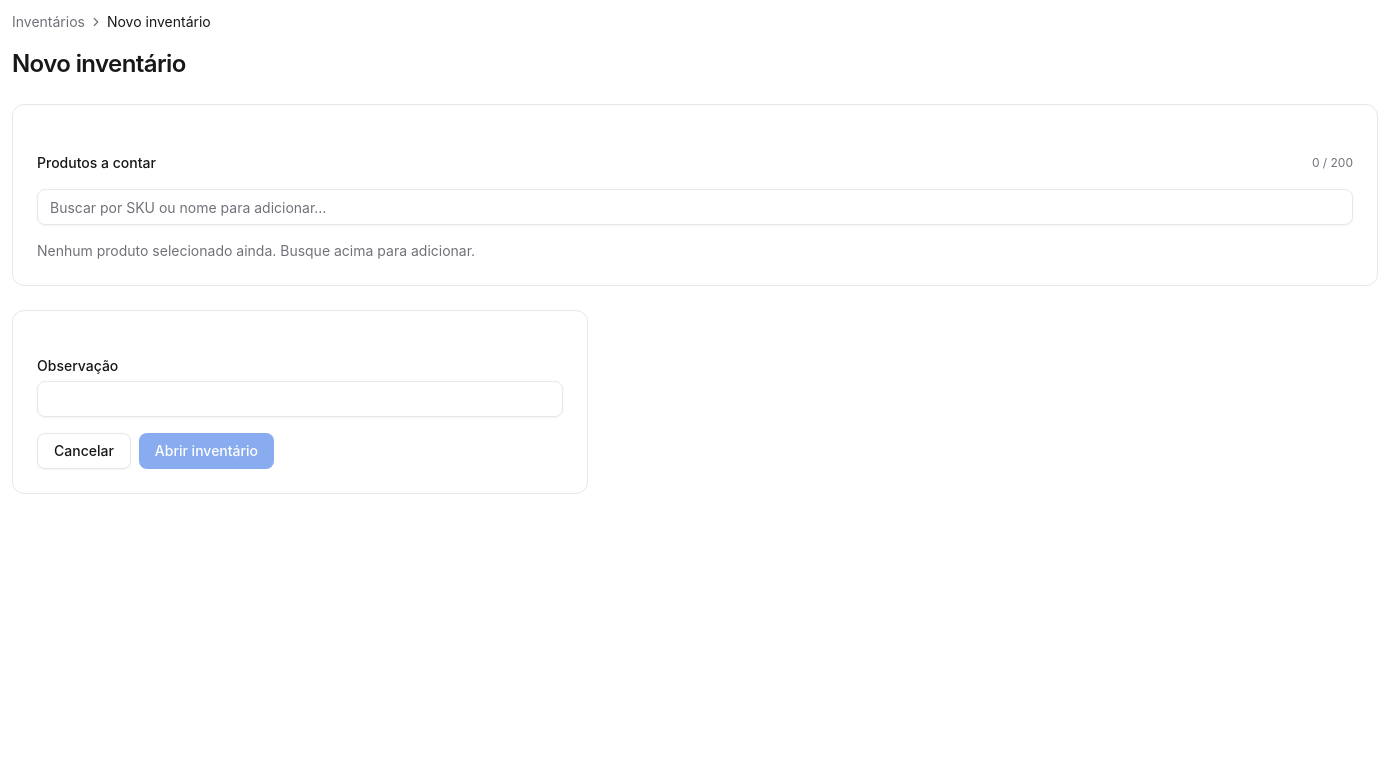
Test: InventoryNewPage › adicionar um produto habilita o envio e mostra o contador
Type "chave" into the field with placeholder "Buscar por SKU ou nome para adicionar…" at (695, 207), box [37,189,1353,225]
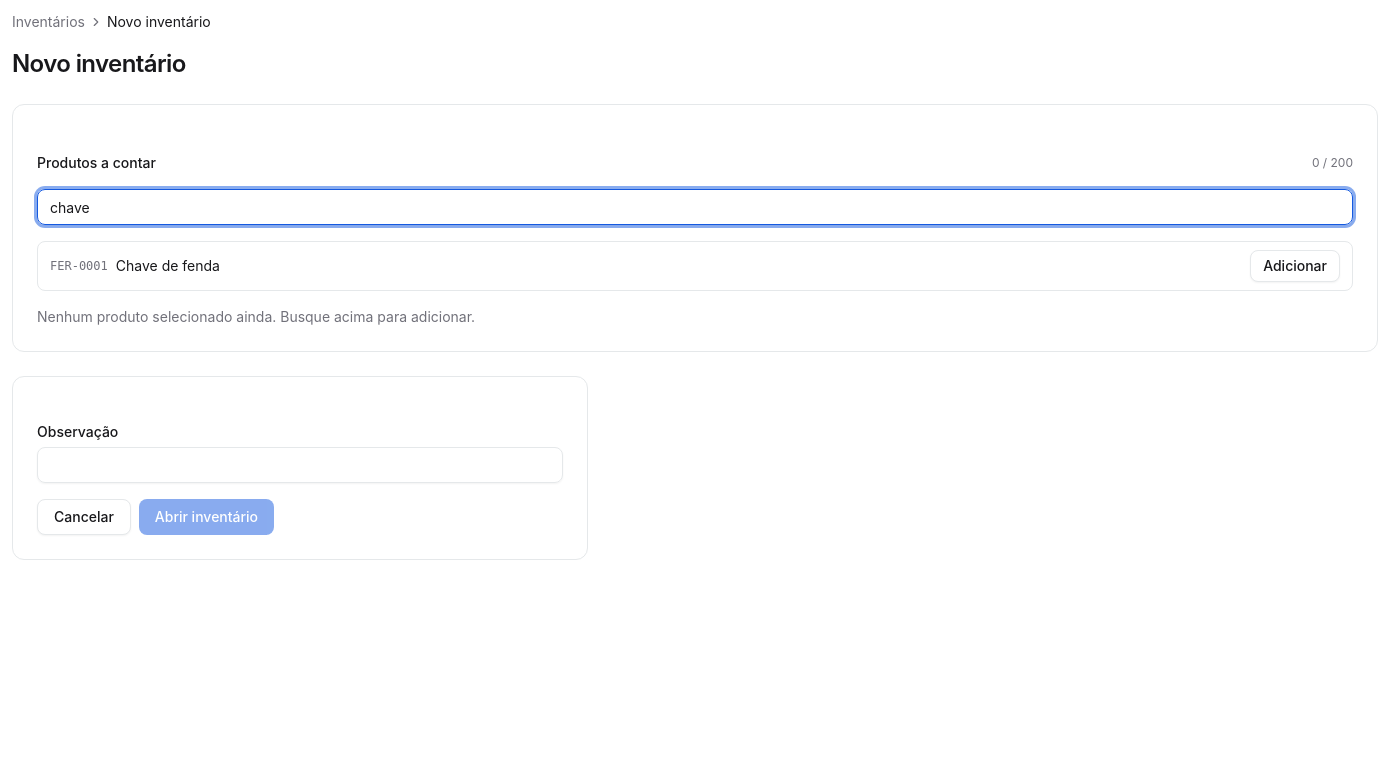
Click the button "Adicionar" at (1295, 266), box [1250,250,1340,282]
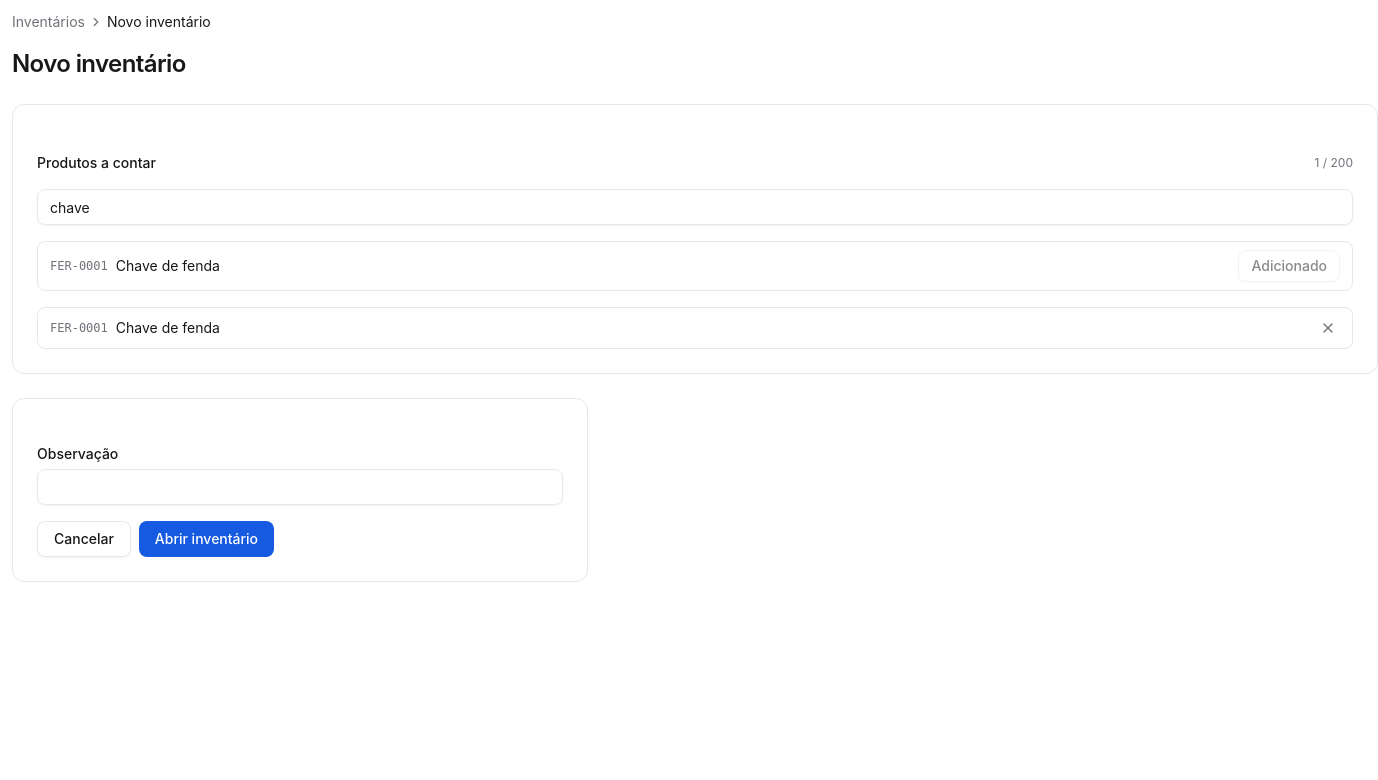
expect the text "1 / 200" is shown: met, box [1315,155,1353,171]
expect the button "Abrir inventário" is enabled: met, box [139,521,274,557]
